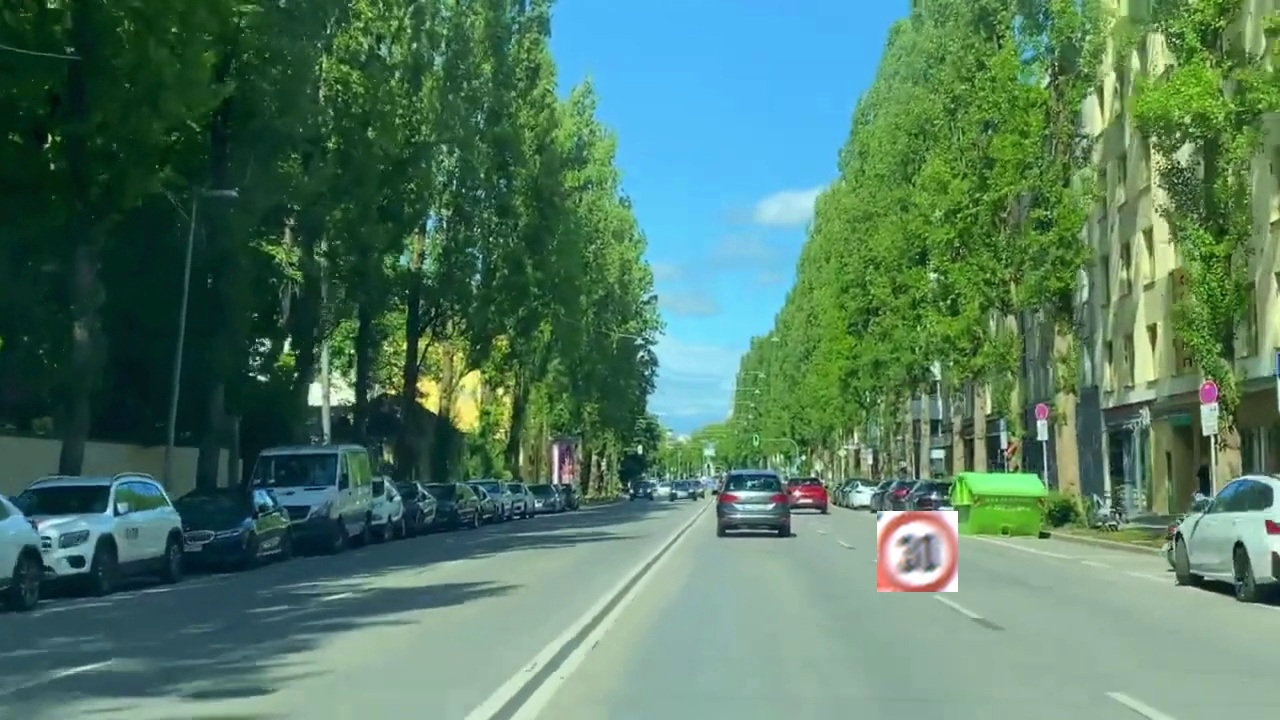Speed 30: (877, 511, 958, 592)
